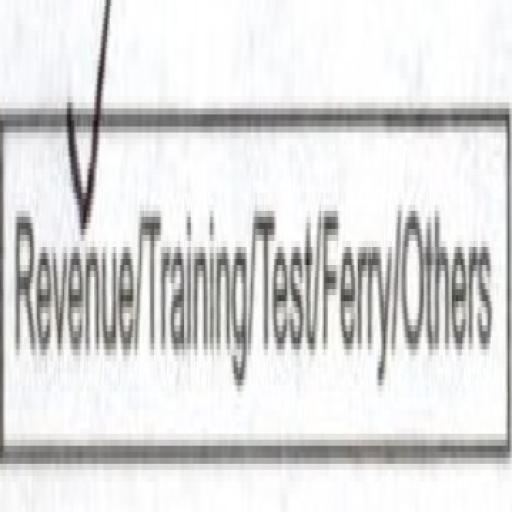check: (2, 9, 137, 449)
